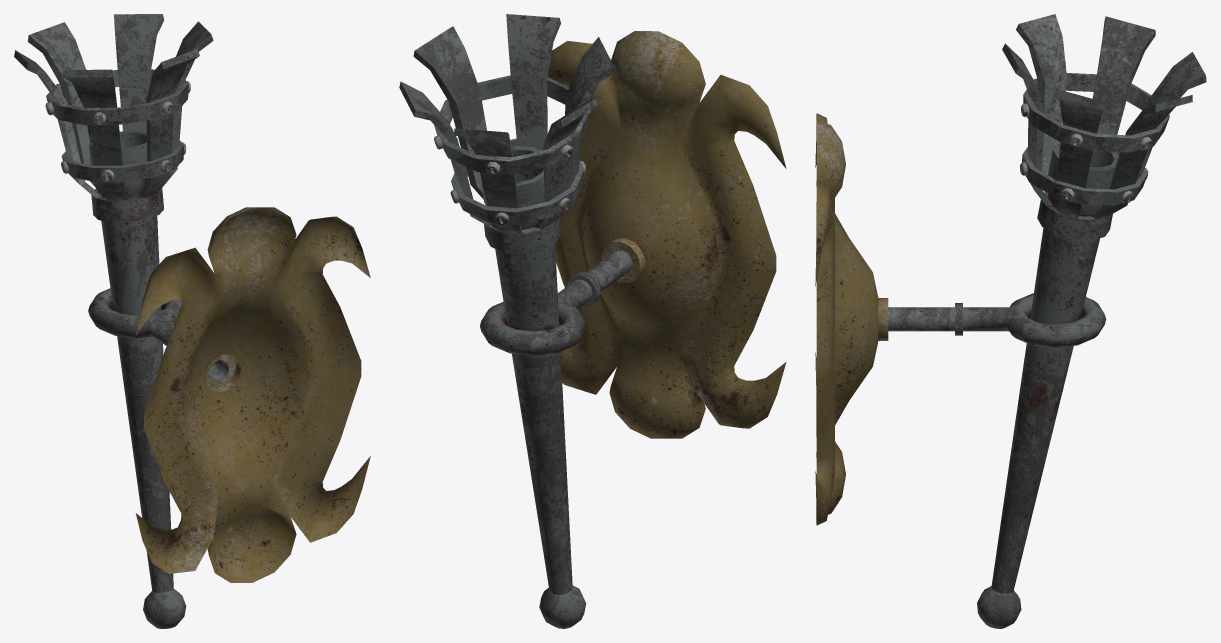
File: torch.glb
3 renders of one model, left to right at view 1: azimuth 30°, elevation 25°; view 2: azimuth 150°, elevation 25°; view 3: azimuth 270°, elevation 25°, orthographic. The views are drawn at different scales.
Visible parts, largest first — view 1: Sphere003; view 2: Sphere003; view 3: Sphere003.
Boxes of the visible parts, box(x1,y1,x2,y2) form: Sphere003: box(14, 14, 370, 628); Sphere003: box(399, 14, 786, 628); Sphere003: box(815, 14, 1206, 628).
Bounding box in the file's own units: 24.96 × 57.07 × 34.68.
1 material, 1 textured.
